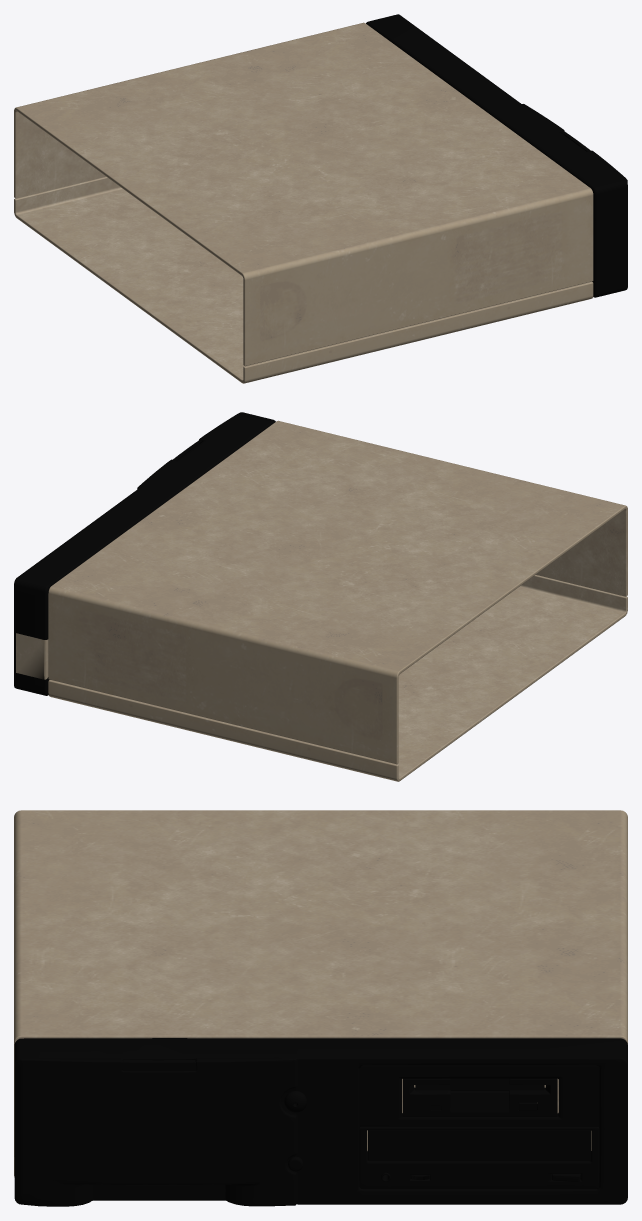
Rendered from Old_GabinetFront.glb.
The picture shows the model from 3 angles, top to bottom: view 1: azimuth 30°, elevation 25°; view 2: azimuth 150°, elevation 25°; view 3: azimuth 270°, elevation 25°; orthographic projection. The views are drawn at different scales.
Visible parts, largest first — view 1: C_deskotBuild_low_Udim01_pc002_0; view 2: C_deskotBuild_low_Udim01_pc002_0; view 3: C_deskotBuild_low_Udim01_pc002_0.
Part boxes in pixels (bbox=[...]): C_deskotBuild_low_Udim01_pc002_0: bbox=[14, 14, 627, 383]; C_deskotBuild_low_Udim01_pc002_0: bbox=[14, 412, 627, 781]; C_deskotBuild_low_Udim01_pc002_0: bbox=[14, 810, 627, 1206].
Size of the model in its own units: 36.66 by 11.01 by 37.72.
Materials: 1 (1 with a texture image).
